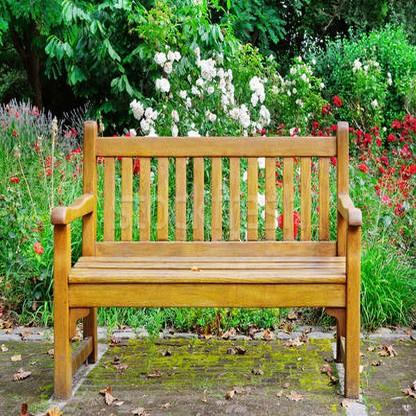obstacle: (40, 106, 370, 394)
